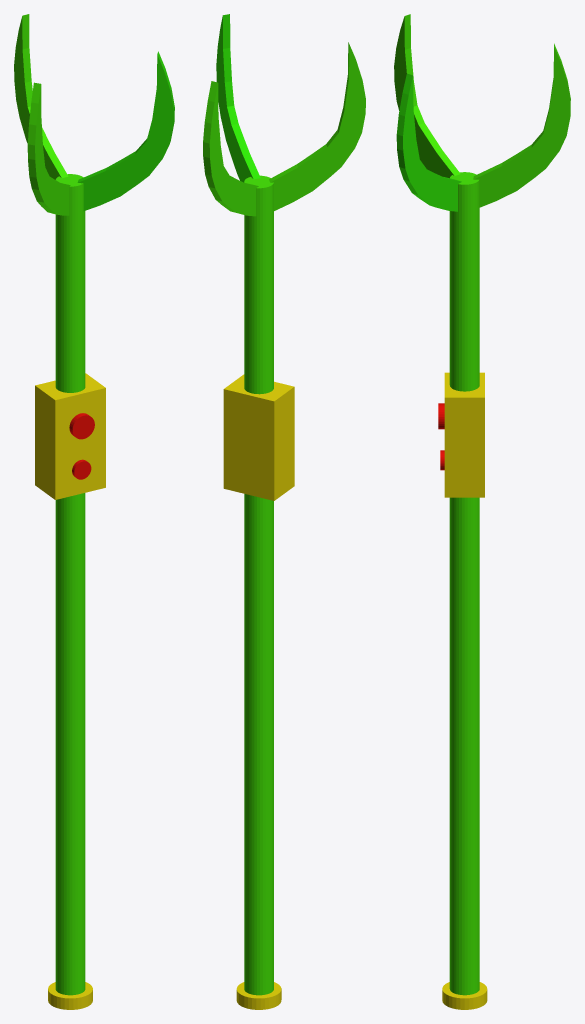
File: DzidaLaserowa.fbx
The picture shows the model from 3 angles, left to right: view 1: azimuth 30°, elevation 25°; view 2: azimuth 150°, elevation 25°; view 3: azimuth 270°, elevation 25°; orthographic projection.
Parts seen in each view (by area): view 1: Cylinder, Cube, Circle.001, Circle.002, Circle, Cylinder.003, Cylinder.001; view 2: Cylinder, Cube, Circle.002, Circle, Circle.001, Cylinder.003; view 3: Cylinder, Cube, Circle, Circle.001, Circle.002, Cylinder.003.
Boxes of the visible parts, bbox=[...] form: Cylinder: bbox=[55, 174, 85, 995]; Cube: bbox=[35, 373, 105, 499]; Circle.001: bbox=[77, 51, 174, 210]; Circle.002: bbox=[27, 82, 70, 215]; Circle: bbox=[14, 14, 68, 179]; Cylinder.003: bbox=[48, 982, 92, 1009]; Cylinder.001: bbox=[69, 413, 94, 439]; Cylinder: bbox=[244, 175, 273, 995]; Cube: bbox=[223, 374, 294, 500]; Circle.002: bbox=[269, 42, 365, 210]; Circle: bbox=[203, 81, 258, 216]; Circle.001: bbox=[216, 14, 260, 182]; Cylinder.003: bbox=[236, 982, 281, 1009]; Cylinder: bbox=[449, 172, 479, 995]; Cube: bbox=[444, 372, 484, 497]; Circle: bbox=[473, 43, 570, 207]; Circle.001: bbox=[396, 73, 461, 211]; Circle.002: bbox=[394, 14, 460, 178]; Cylinder.003: bbox=[442, 982, 487, 1009].
Bounding box in the file's own units: 1146 × 7028 × 1178.
